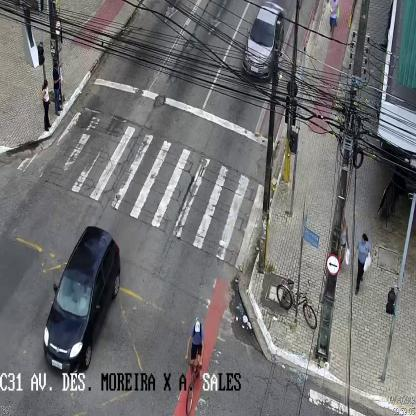bicycle: (276, 273, 317, 329), (184, 318, 206, 413)
car: (43, 227, 120, 376), (242, 0, 286, 84)
person: (355, 232, 368, 298), (338, 216, 349, 272), (41, 76, 52, 130)
